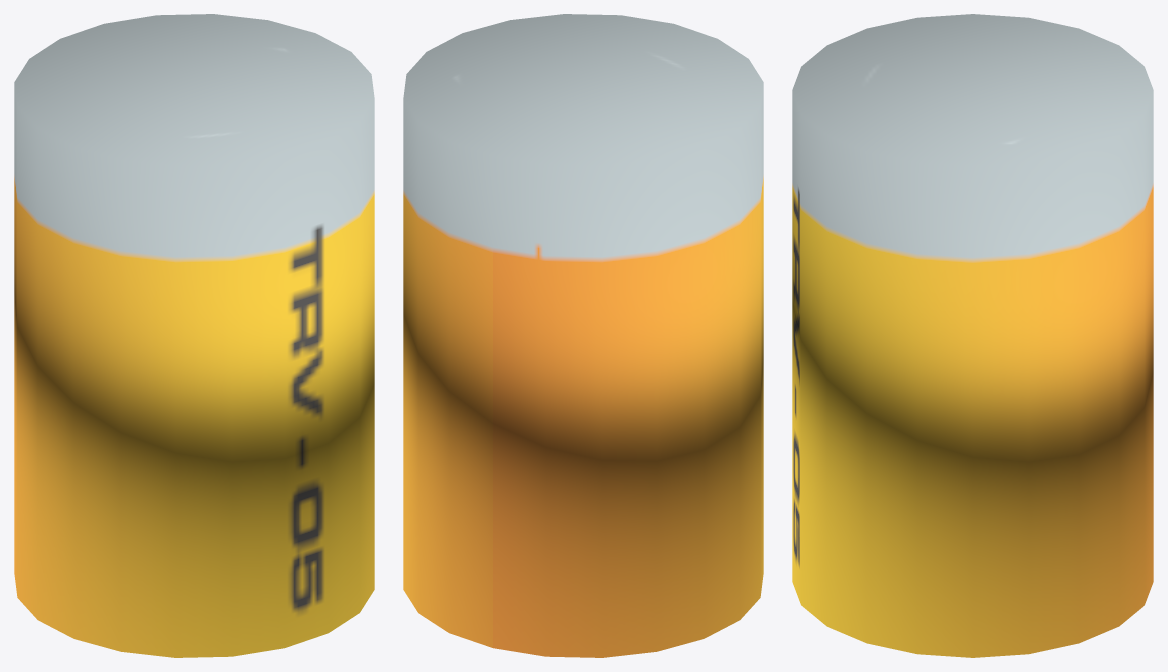
3 renders of one model, left to right at view 1: azimuth 30°, elevation 25°; view 2: azimuth 150°, elevation 25°; view 3: azimuth 270°, elevation 25°, orthographic.
Visible parts, largest first — view 1: P4; view 2: P4; view 3: P4.
Boxes of the visible parts, x1,y1,x2,y2 form: P4: (14,14,374,657); P4: (403,14,763,657); P4: (792,14,1153,657).
Bounding box in the file's own units: 14 × 20.97 × 14.
Materials: 1 (1 with a texture image).
